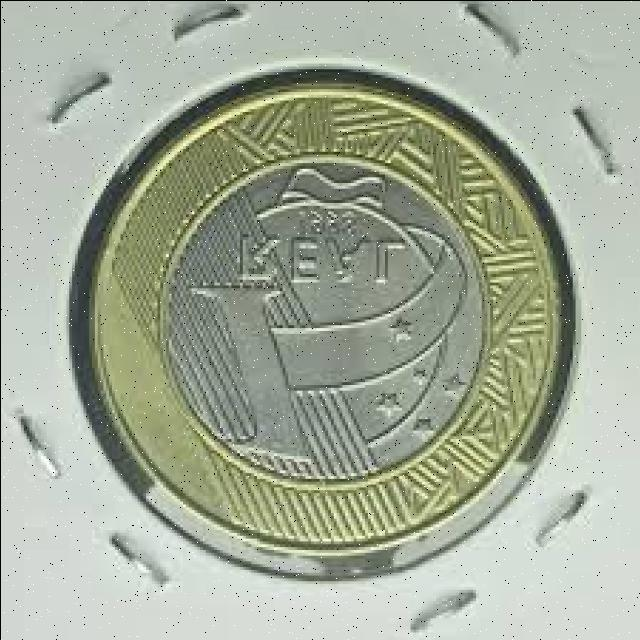1 real: (94, 99, 554, 552)
